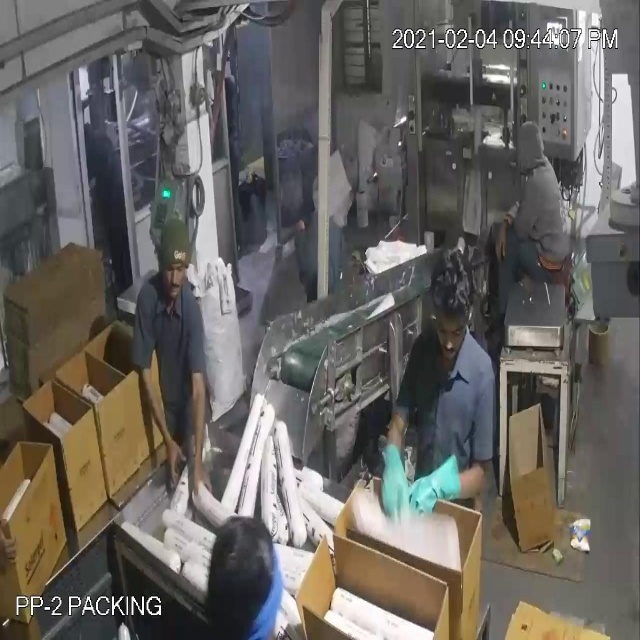Guantes: (405, 453, 489, 520), (381, 419, 410, 521)
Sin_guantes: (127, 328, 188, 492), (178, 348, 219, 504), (492, 220, 527, 266)
